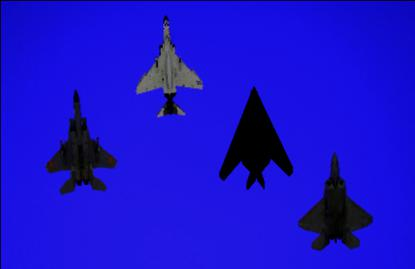E7: (219, 84, 293, 190)
F117: (45, 88, 117, 194)
F18: (298, 152, 372, 250)
F35: (135, 10, 203, 118)
